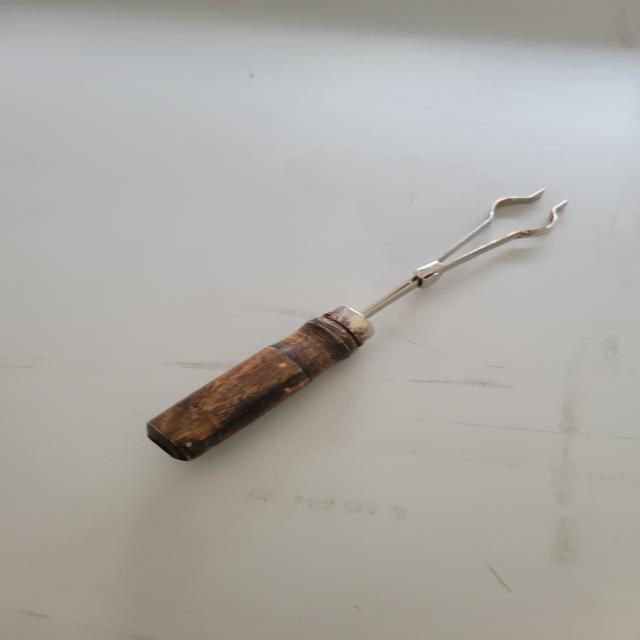TestTube_Holder: (123, 124, 594, 541)
